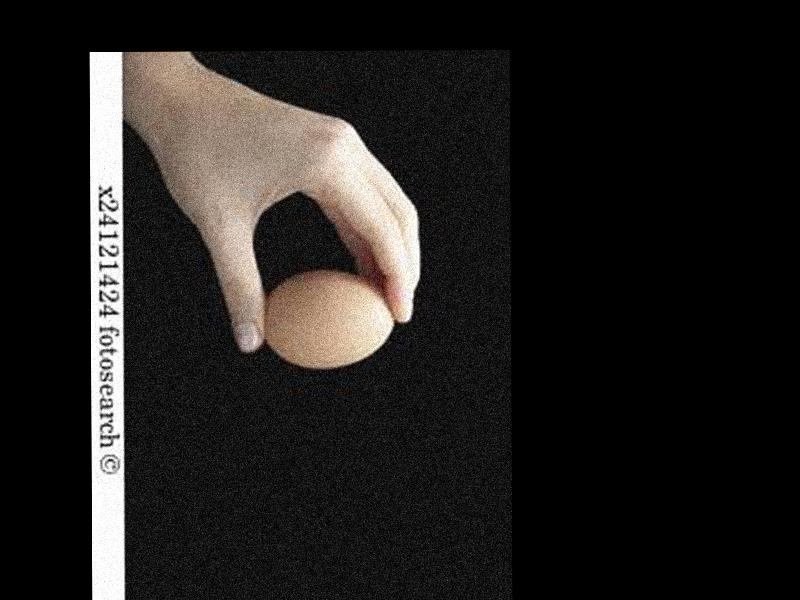Eggs: (263, 270, 398, 368)
